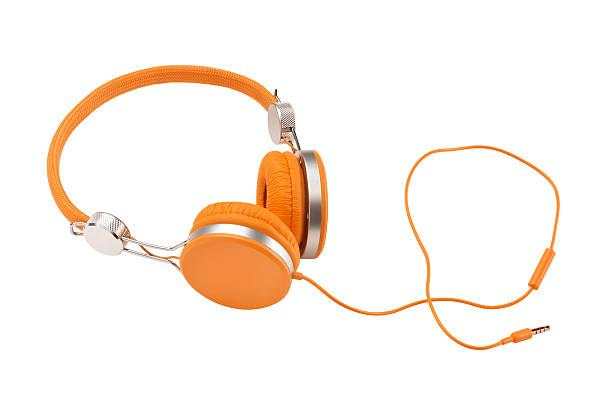headphone: (47, 65, 350, 310)
